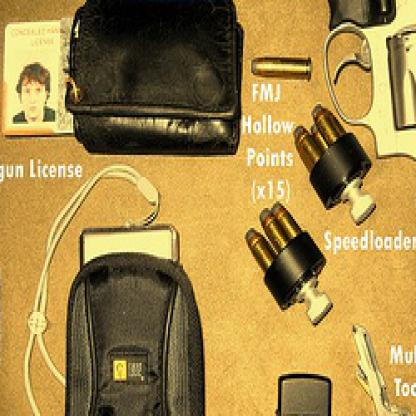gun: (250, 0, 414, 235)
